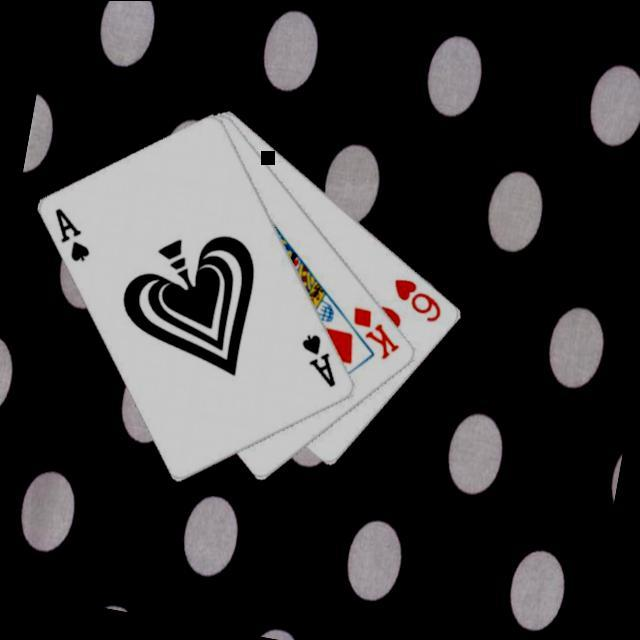6H: (385, 271, 450, 324)
AS: (45, 203, 101, 266), (293, 327, 348, 389)
KD: (343, 300, 409, 363)
